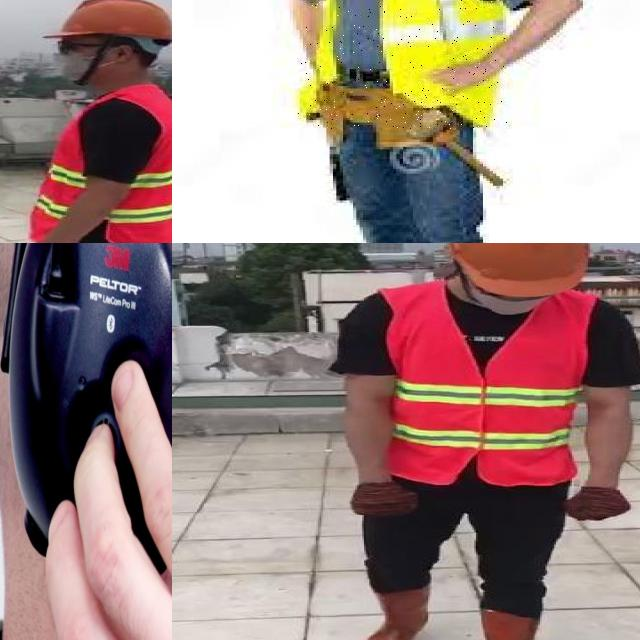Ear-protection: (0, 243, 172, 640)
boots: (360, 587, 429, 640), (472, 607, 554, 640)
face_mask: (46, 37, 110, 87)
hand_glove: (563, 488, 631, 523), (352, 483, 418, 516)
head_helmet: (450, 243, 594, 298), (53, 0, 172, 44)
person: (327, 243, 640, 640), (0, 0, 172, 243)
vest: (384, 283, 592, 488), (298, 0, 508, 129), (27, 86, 172, 243)
